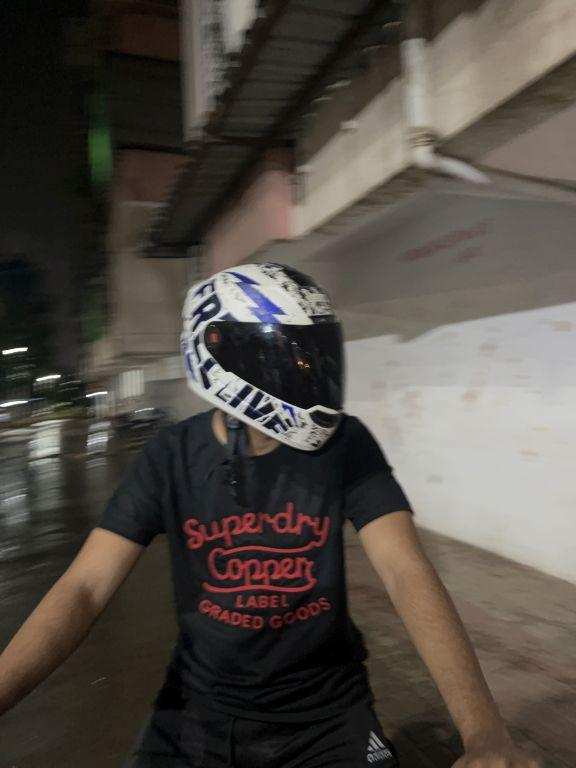helmet: (177, 257, 349, 467)
